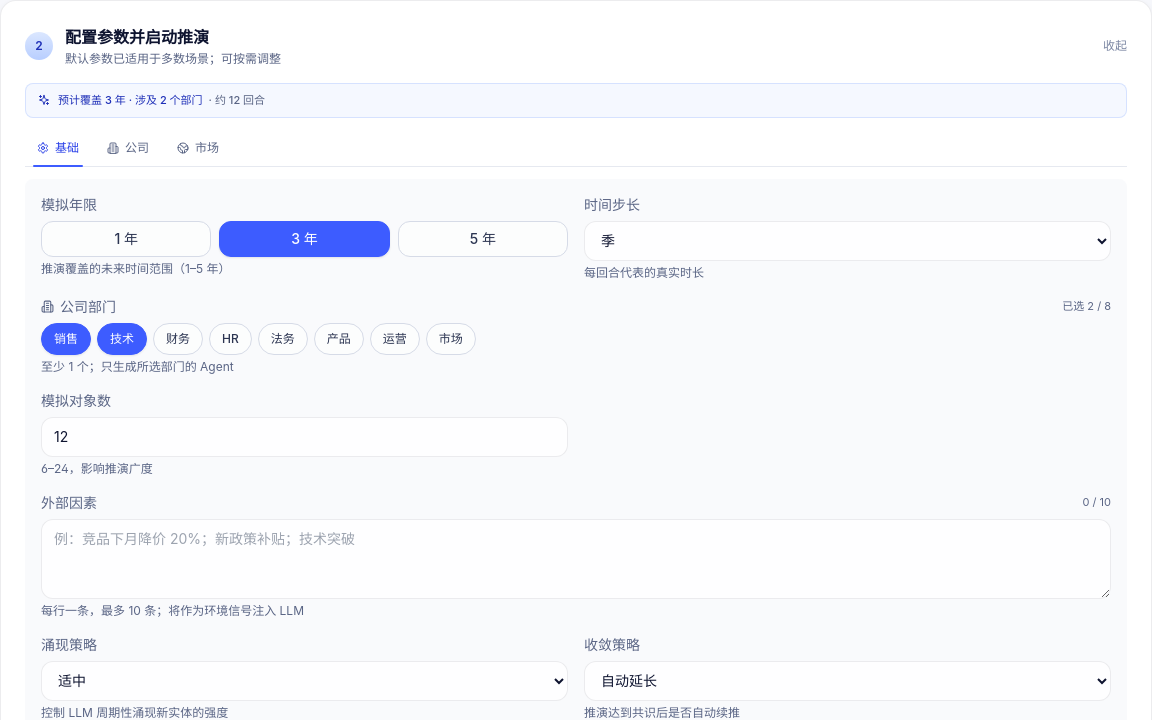
Scenario: ConfigCard 3 tabs › 点 市场 tab → 切换到市场视图
Click the 1st button "市场".
click(198, 148)  # box [165,130,231,166]
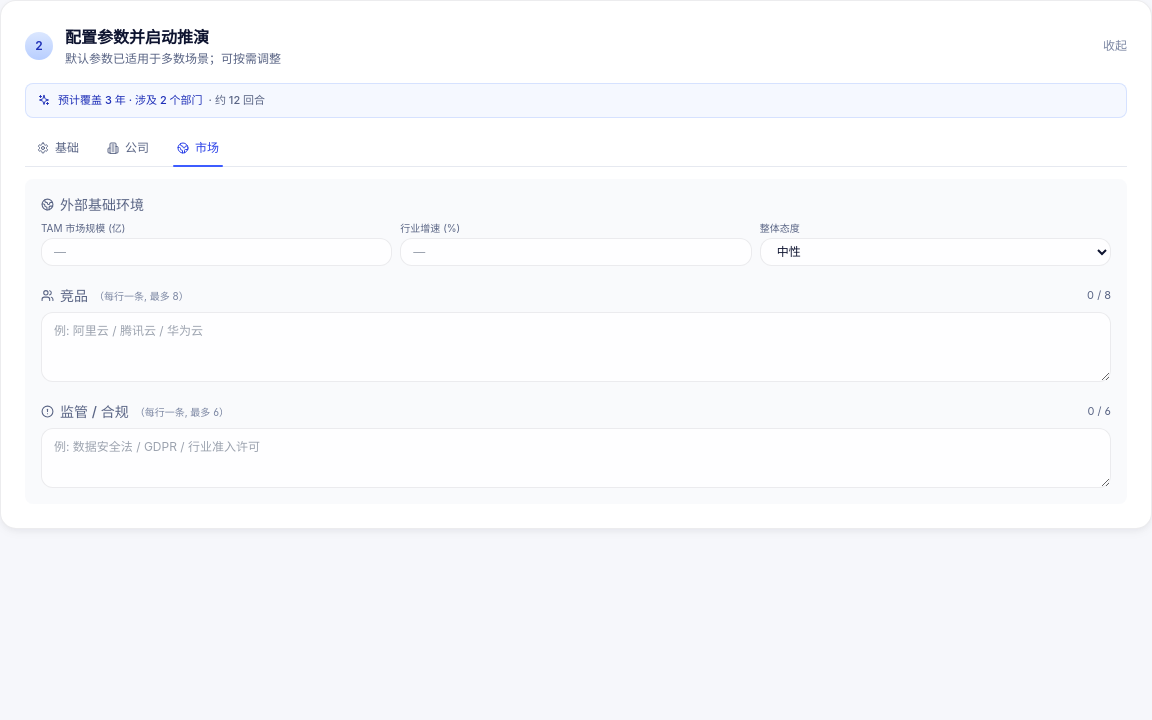
Check: the text "整体态度" is shown, box [760,222,800,234]
